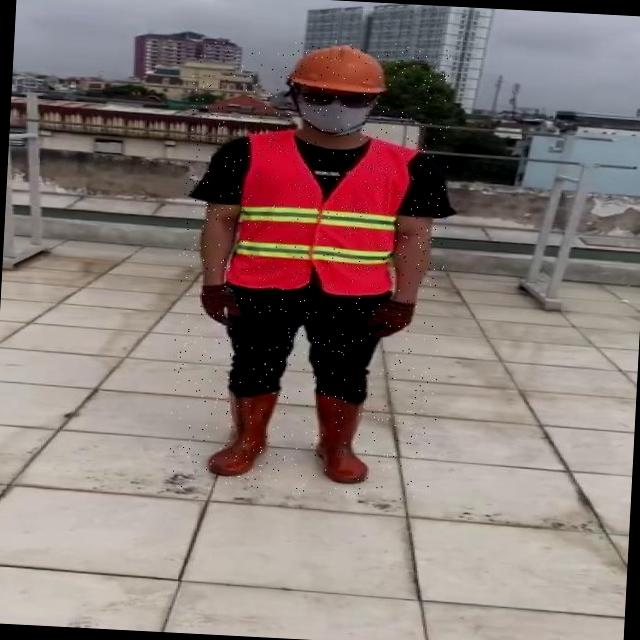boots: (206, 385, 282, 478), (308, 394, 373, 484)
gloves: (158, 259, 267, 350), (354, 288, 443, 360)
helmet: (274, 37, 396, 100)
vest: (228, 130, 410, 300)
